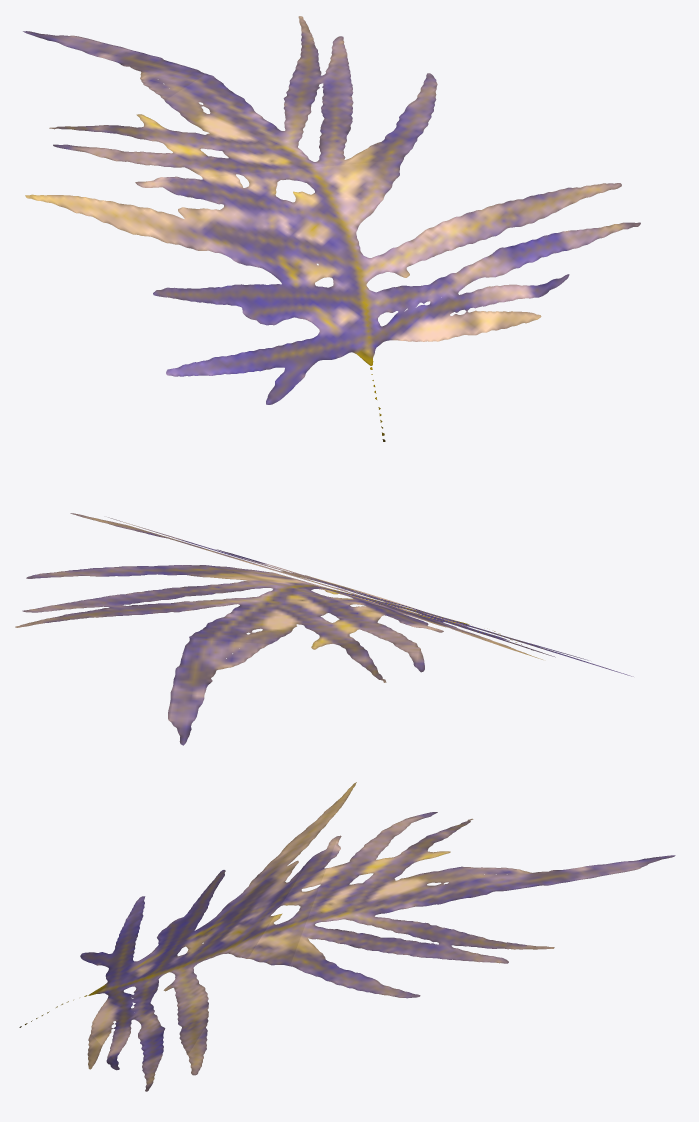
The model's file is Painter Wort Leaf A.fbx.
3 views of the same model, one above another, from view 1: azimuth 30°, elevation 25°; view 2: azimuth 150°, elevation 25°; view 3: azimuth 270°, elevation 25° (orthographic). The views are drawn at different scales.
Parts seen in each view (by area): view 1: Painter Wort Leaf A; view 2: Painter Wort Leaf A; view 3: Painter Wort Leaf A.
Part boxes in pixels (box(x1,y1,x2,y2)): Painter Wort Leaf A: box(23, 16, 640, 441); Painter Wort Leaf A: box(15, 513, 633, 745); Painter Wort Leaf A: box(19, 782, 675, 1091).
Bounding box in the file's own units: 64 × 19.76 × 68.76.
